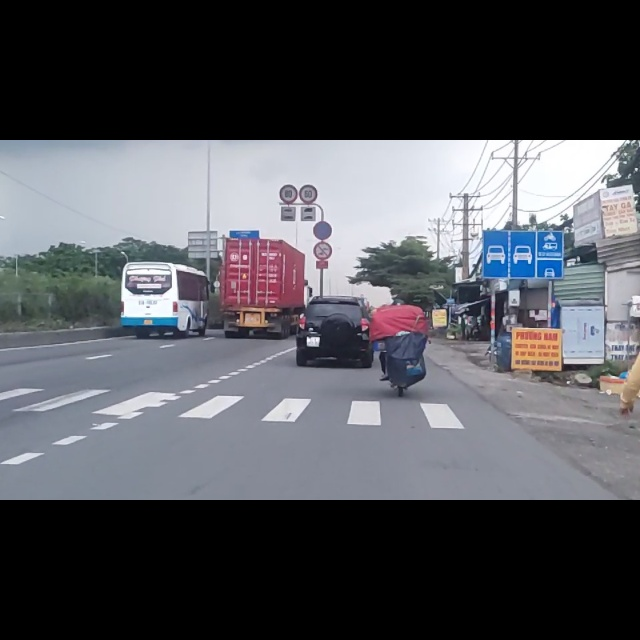bien_cam: (483, 159, 564, 247), (313, 143, 333, 178), (313, 180, 333, 213), (300, 79, 318, 114), (280, 79, 297, 111)
